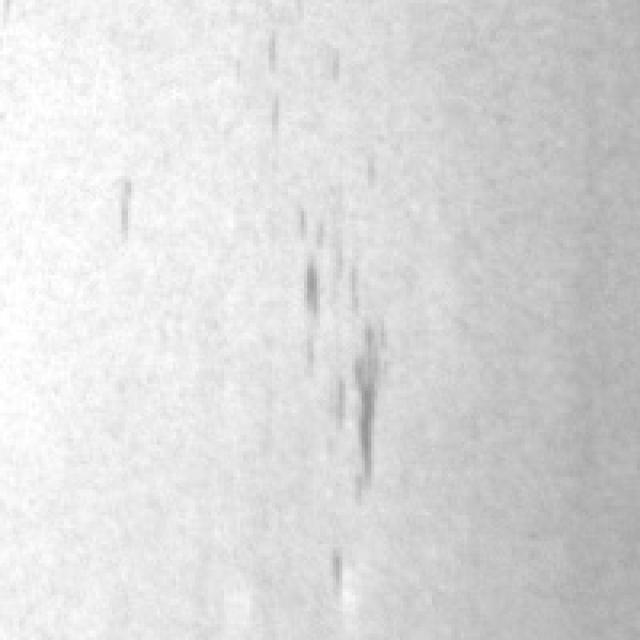inclusion: (278, 176, 368, 371), (320, 308, 394, 502)
